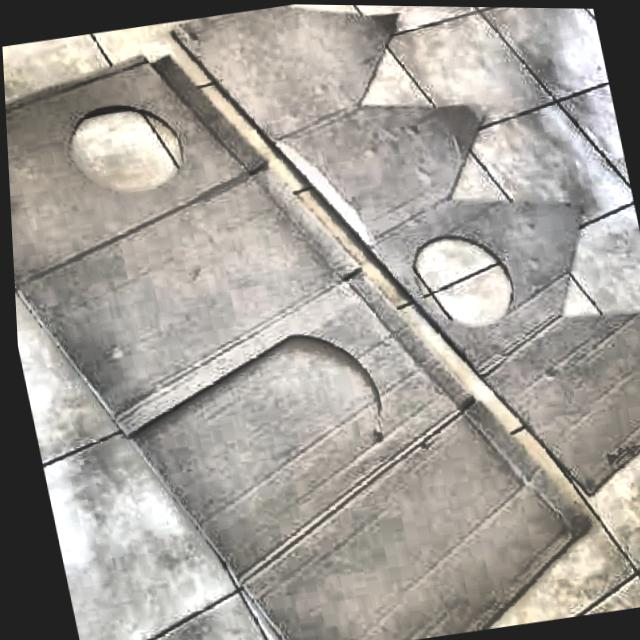Cardbox: (0, 0, 601, 640), (160, 2, 640, 554)
